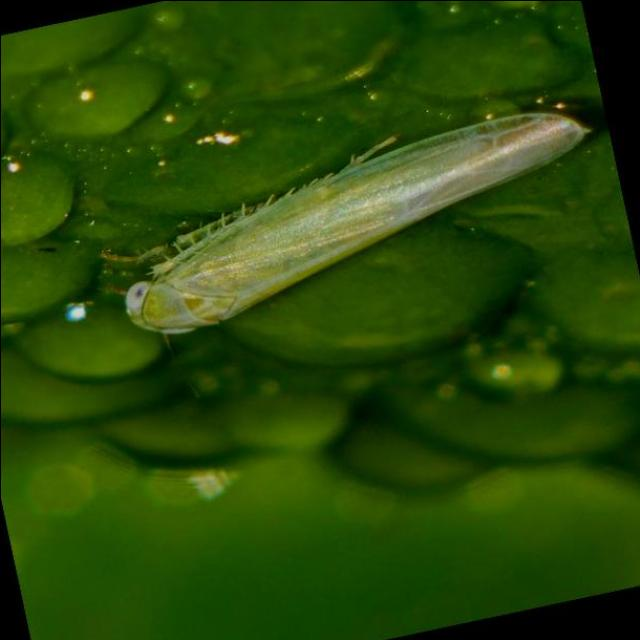green leaf hopper: (105, 112, 590, 334)
